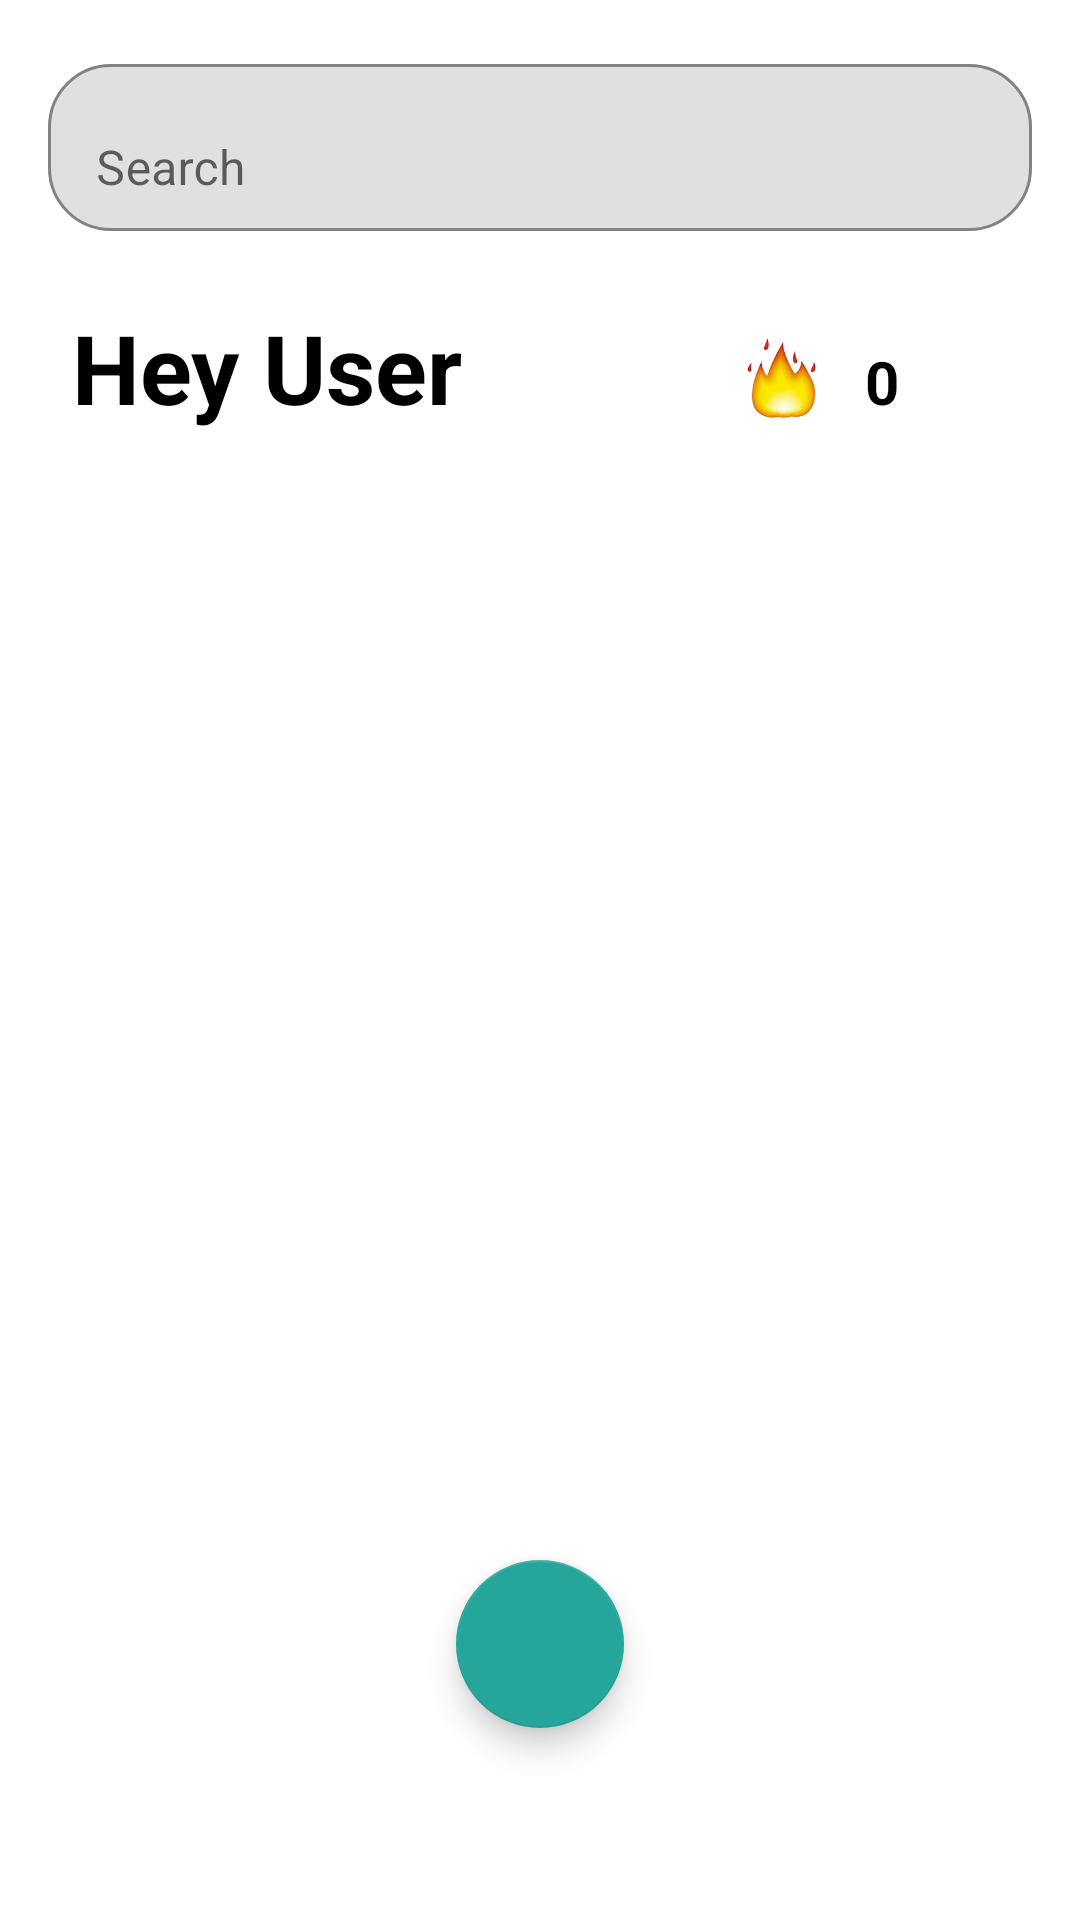

Screen size 1080px×1920px. Icon name, then its box in pixels as (x1, y1, x2, y2):
streaks: (747, 338, 816, 418)
